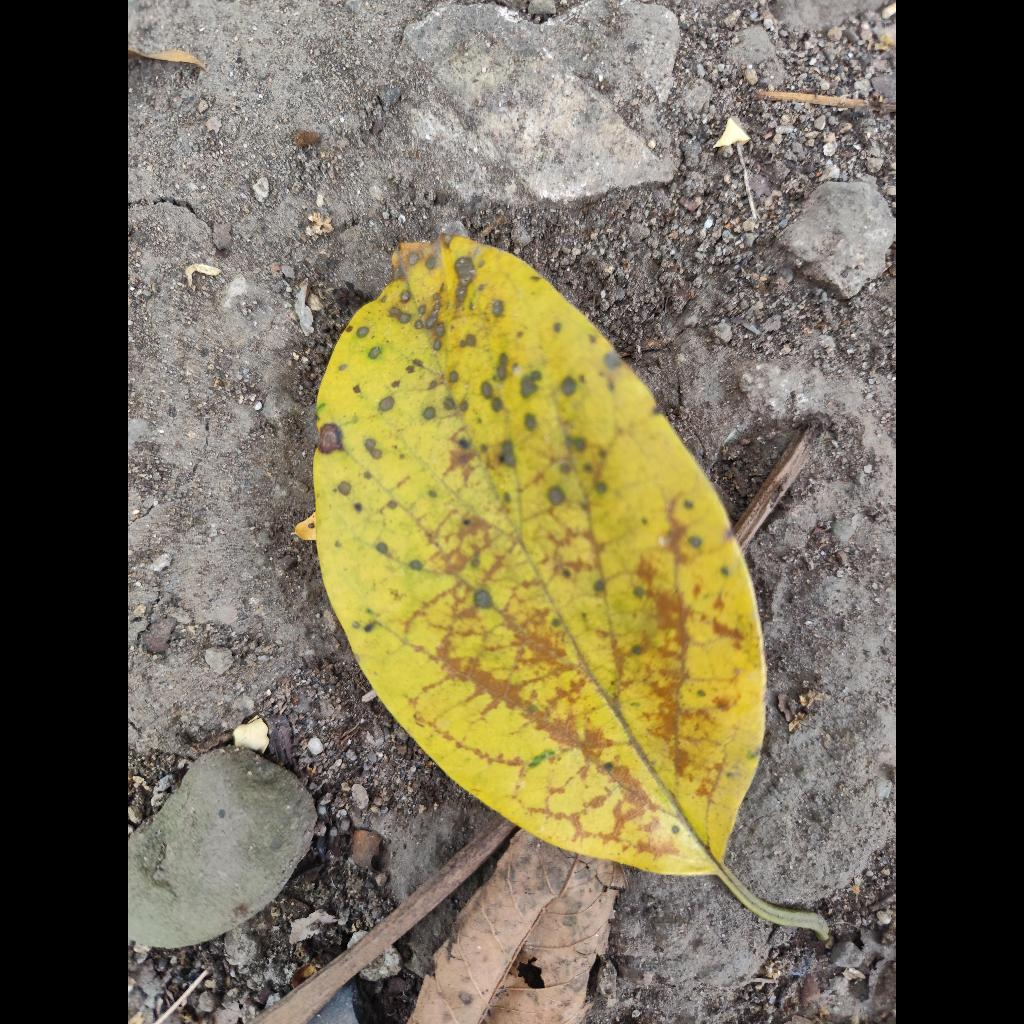nutrient_deficiency: (313, 236, 804, 924)
